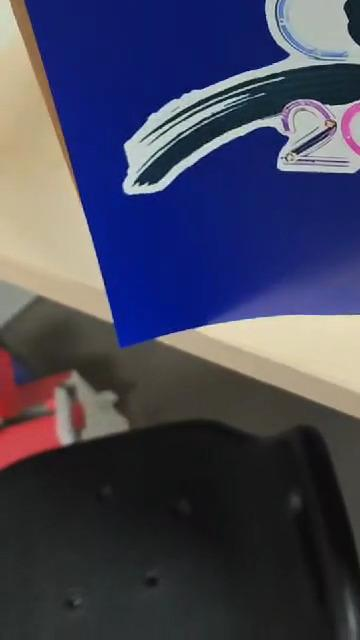B_R1: (98, 0, 360, 275)
